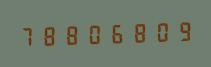eight: (39, 22, 60, 48), (61, 21, 82, 47), (127, 19, 148, 45)
nine: (171, 17, 192, 43)
seven: (17, 23, 38, 49)
six: (105, 20, 126, 46)
zero: (83, 20, 104, 47), (149, 18, 170, 44)
